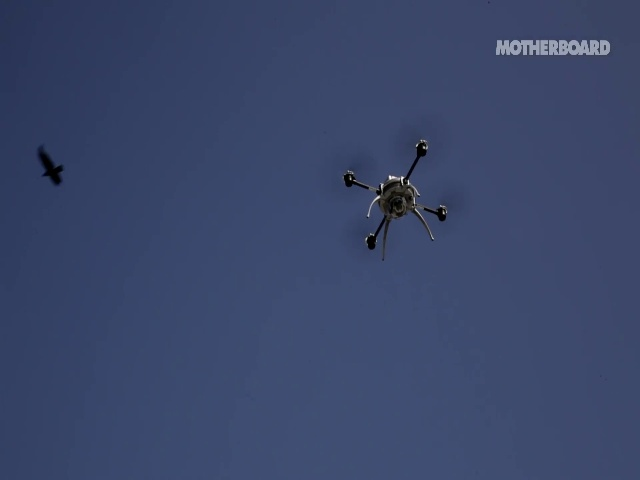drone: (331, 111, 475, 263)
